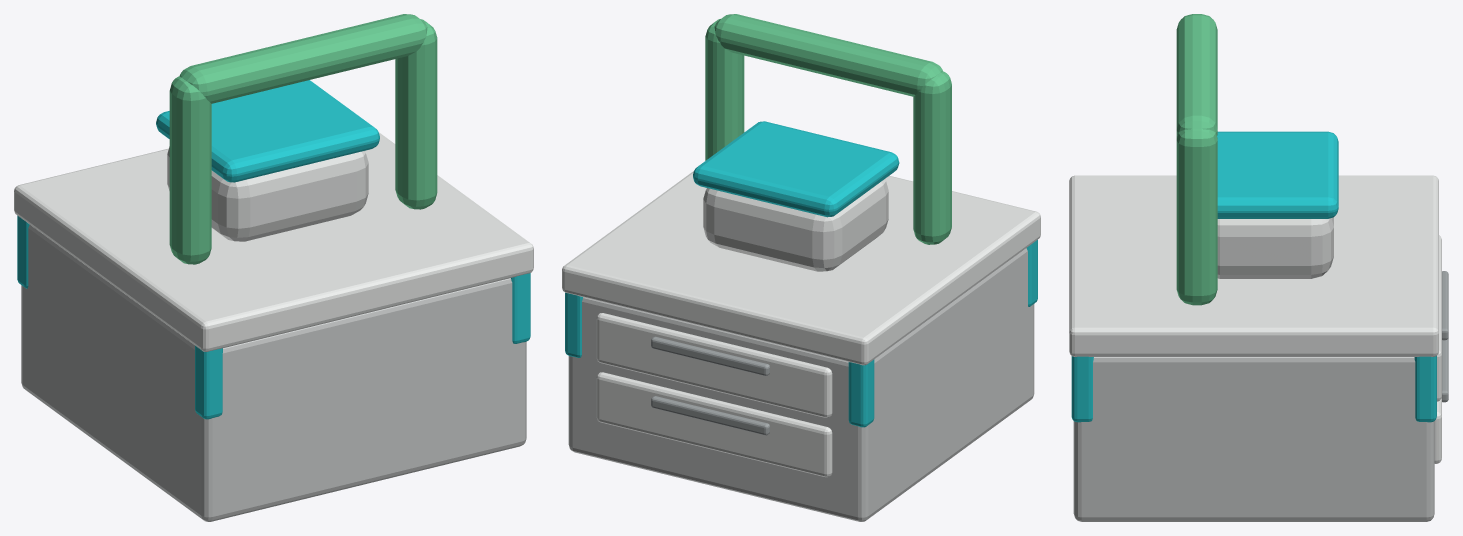
Rendered from CourierShelf.fbx.
3 views of the same model, side by side, from view 1: azimuth 30°, elevation 25°; view 2: azimuth 150°, elevation 25°; view 3: azimuth 270°, elevation 25° (orthographic). The views are drawn at different scales.
Visible parts, largest first — view 1: MAT_Steel Geometry.013, MAT_SteelLight Geometry.012, MAT_Delivery Geometry.002, MAT_Teal Geometry.011, MAT_Cream Geometry.004; view 2: MAT_SteelLight Geometry.012, MAT_Steel Geometry.013, MAT_Delivery Geometry.002, MAT_Teal Geometry.011, MAT_Cream Geometry.004, MAT_SteelDark Geometry.012; view 3: MAT_Steel Geometry.013, MAT_SteelLight Geometry.012, MAT_Teal Geometry.011, MAT_Delivery Geometry.002, MAT_Cream Geometry.004, MAT_SteelDark Geometry.012.
Boxes of the visible parts, x1,y1,x2,y2 form: MAT_Steel Geometry.013: (21,225,526,521); MAT_SteelLight Geometry.012: (14,132,533,351); MAT_Delivery Geometry.002: (169,14,437,264); MAT_Teal Geometry.011: (17,80,530,419); MAT_Cream Geometry.004: (167,146,368,241); MAT_SteelLight Geometry.012: (562,171,1040,477); MAT_Steel Geometry.013: (568,248,1034,521); MAT_Delivery Geometry.002: (705,14,951,244); MAT_Teal Geometry.011: (565,121,1037,427); MAT_Cream Geometry.004: (703,179,888,271); MAT_SteelDark Geometry.012: (651,336,769,435); MAT_Steel Geometry.013: (1073,357,1434,521); MAT_SteelLight Geometry.012: (1069,175,1441,463); MAT_Teal Geometry.011: (1071,131,1436,422); MAT_Delivery Geometry.002: (1176,14,1217,305); MAT_Cream Geometry.004: (1217,217,1333,278); MAT_SteelDark Geometry.012: (1442,271,1448,402).
Bounding box in the file's own units: 162 × 185 × 166.
